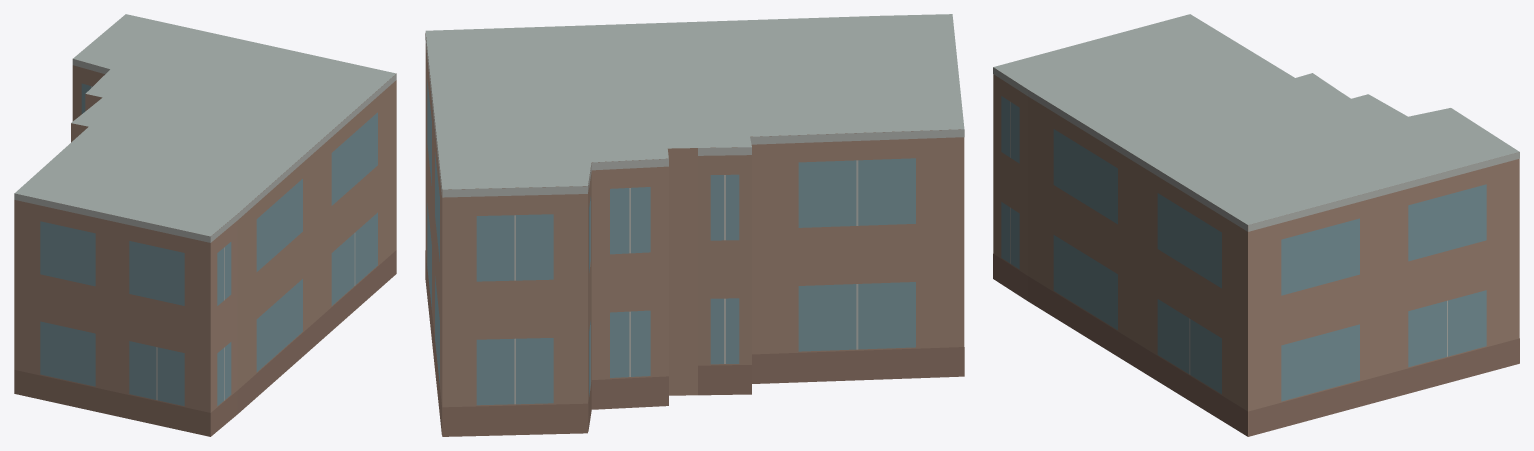
File: survey-upis-32629624.glb
3 renders of one model, left to right at view 1: azimuth 30°, elevation 25°; view 2: azimuth 150°, elevation 25°; view 3: azimuth 270°, elevation 25°, orthographic. The views are drawn at different scales.
Visible parts, largest first — view 1: survey-upis-32629624.tmp; view 2: survey-upis-32629624.tmp; view 3: survey-upis-32629624.tmp.
Boxes of the visible parts, x1,y1,x2,y2 form: survey-upis-32629624.tmp: [14, 14, 396, 436]; survey-upis-32629624.tmp: [425, 14, 964, 436]; survey-upis-32629624.tmp: [993, 14, 1519, 436].
Bounding box in the file's own units: 16.26 × 7.6 × 17.14.
